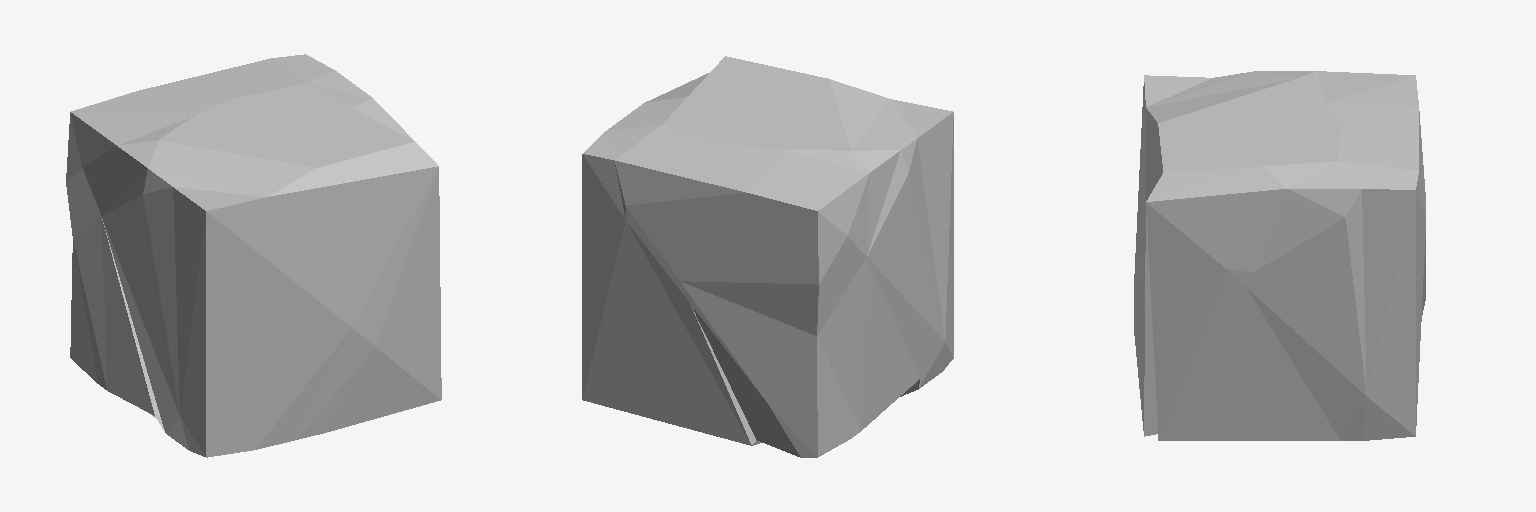
File: Shatterd04.obj
The picture shows the model from 3 angles: view 1: azimuth 30°, elevation 25°; view 2: azimuth 150°, elevation 25°; view 3: azimuth 270°, elevation 25°; orthographic projection.
Visible parts, largest first — view 1: Shatterd04; view 2: Shatterd04; view 3: Shatterd04.
Boxes of the visible parts, x1,y1,x2,y2 form: Shatterd04: [66, 54, 441, 457]; Shatterd04: [582, 56, 953, 457]; Shatterd04: [1134, 71, 1425, 440].
Bounding box in the file's own units: 2.12 × 2.12 × 2.12.